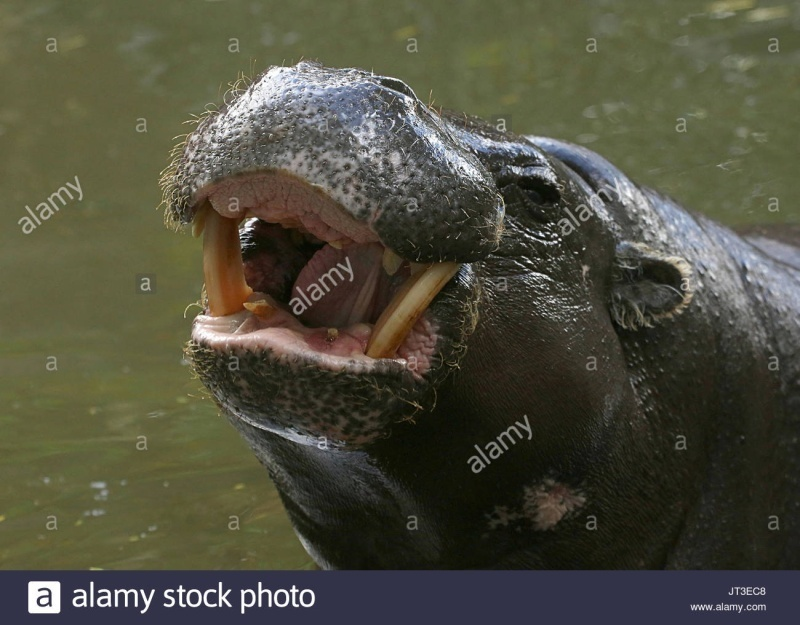hipopotamo: (156, 40, 800, 591)
